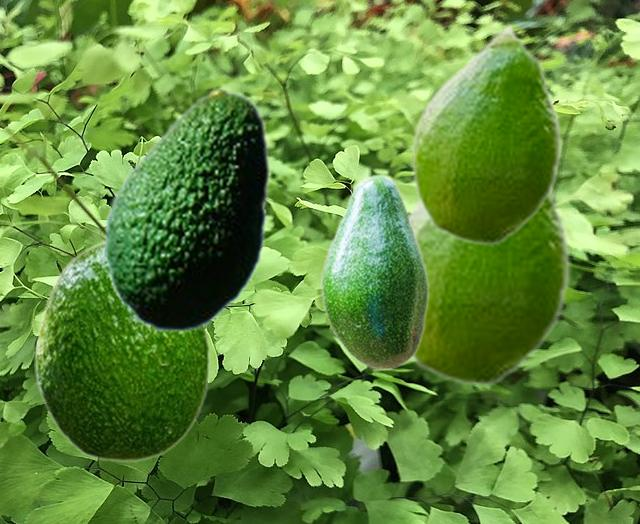avocado: (103, 88, 269, 332), (34, 238, 210, 461), (410, 22, 561, 245), (407, 182, 570, 386), (319, 173, 428, 370)
